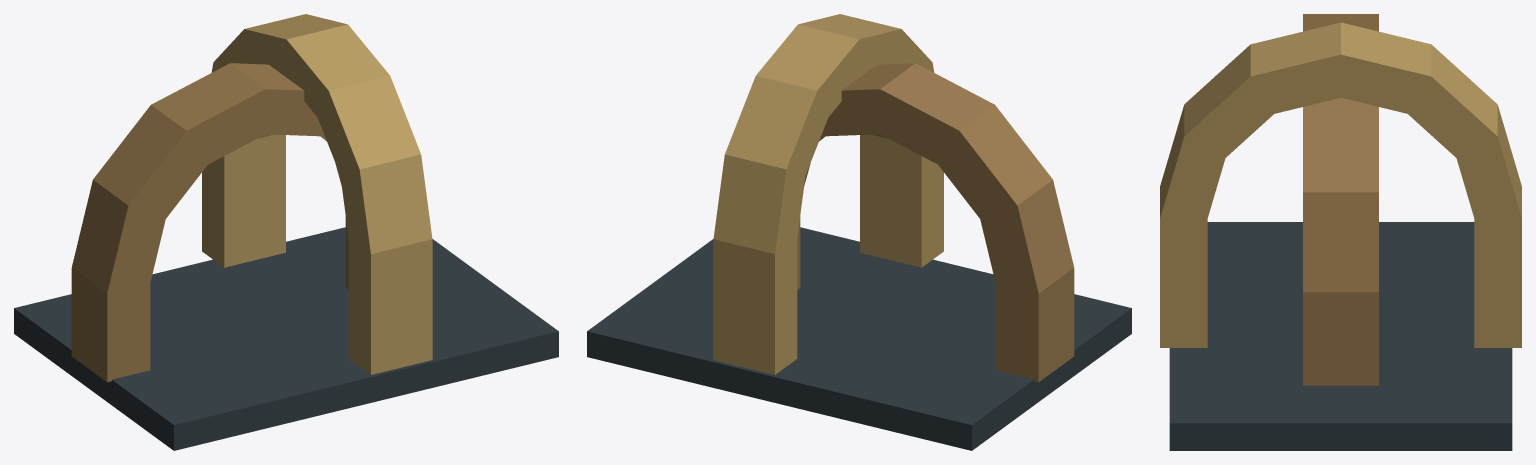
Rendered from VIC_L06_ABSTRACT_BRONZE_Roblox.fbx.
3 views of the same model, side by side, from view 1: azimuth 30°, elevation 25°; view 2: azimuth 150°, elevation 25°; view 3: azimuth 270°, elevation 25° (orthographic). The views are drawn at different scales.
Visible parts, largest first — view 1: VIC_L06_ABSTRACT_BRONZE__Charcoal, VIC_L06_ABSTRACT_BRONZE__Brass, VIC_L06_ABSTRACT_BRONZE__Bronze; view 2: VIC_L06_ABSTRACT_BRONZE__Charcoal, VIC_L06_ABSTRACT_BRONZE__Brass, VIC_L06_ABSTRACT_BRONZE__Bronze; view 3: VIC_L06_ABSTRACT_BRONZE__Charcoal, VIC_L06_ABSTRACT_BRONZE__Brass, VIC_L06_ABSTRACT_BRONZE__Bronze.
Part boxes in pixels (<box>): VIC_L06_ABSTRACT_BRONZE__Charcoal: <box>14,227,558,450</box>; VIC_L06_ABSTRACT_BRONZE__Brass: <box>202,14,432,374</box>; VIC_L06_ABSTRACT_BRONZE__Bronze: <box>71,63,348,382</box>; VIC_L06_ABSTRACT_BRONZE__Charcoal: <box>587,227,1131,450</box>; VIC_L06_ABSTRACT_BRONZE__Brass: <box>713,14,943,374</box>; VIC_L06_ABSTRACT_BRONZE__Bronze: <box>797,63,1074,382</box>; VIC_L06_ABSTRACT_BRONZE__Charcoal: <box>1169,222,1512,450</box>; VIC_L06_ABSTRACT_BRONZE__Brass: <box>1160,22,1521,347</box>; VIC_L06_ABSTRACT_BRONZE__Bronze: <box>1303,14,1378,385</box>.
Size of the model in its own units: 2.53 by 1.9 by 1.9.
